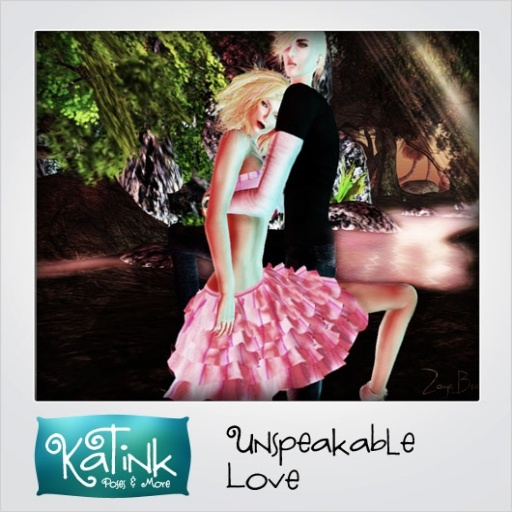hand: (209, 296, 234, 338), (201, 185, 210, 218)
